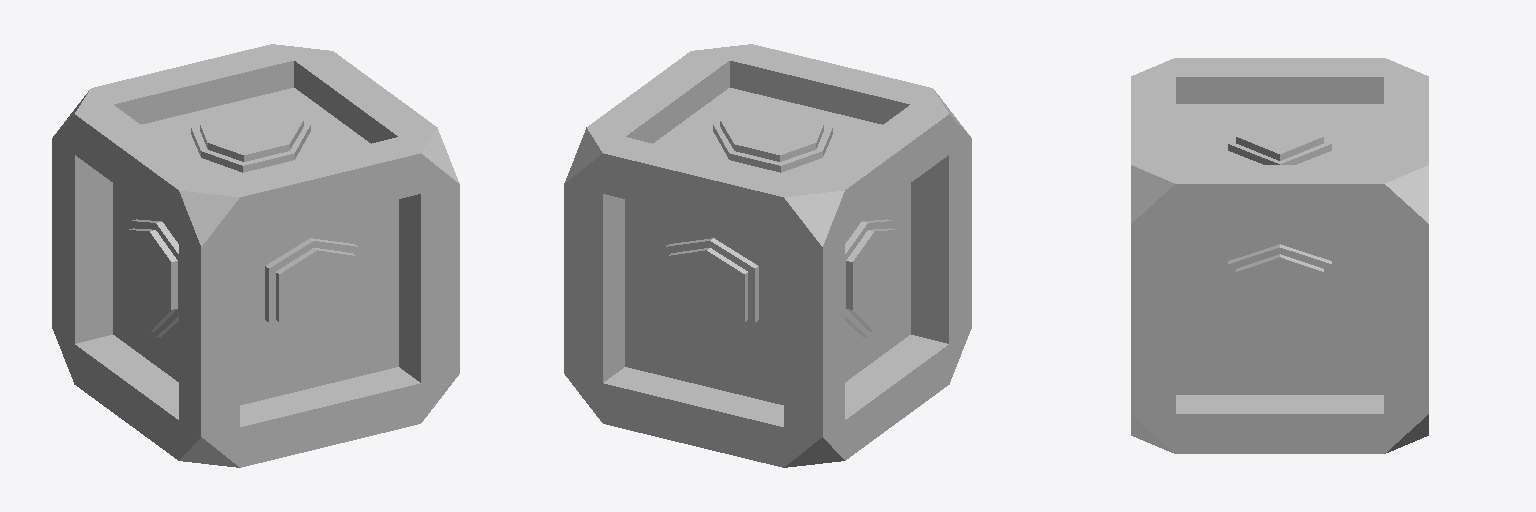
The model's file is armorkit.obj.
3 renders of one model, left to right at view 1: azimuth 30°, elevation 25°; view 2: azimuth 150°, elevation 25°; view 3: azimuth 270°, elevation 25°, orthographic.
Visible parts, largest first — view 1: borders, main, circle; view 2: borders, main, circle; view 3: borders, main, circle.
Boxes of the visible parts, x1=… form: borders: x1=52, y1=44, x2=459, y2=467; main: x1=113, y1=88, x2=398, y2=404; circle: x1=127, y1=112, x2=358, y2=355; borders: x1=564, y1=44, x2=971, y2=467; main: x1=625, y1=88, x2=910, y2=404; circle: x1=665, y1=112, x2=896, y2=355; borders: x1=1131, y1=58, x2=1428, y2=453; main: x1=1176, y1=104, x2=1383, y2=394; circle: x1=1228, y1=107, x2=1331, y2=361.
Bounding box in the file's own units: 1.25 × 1.25 × 1.25.